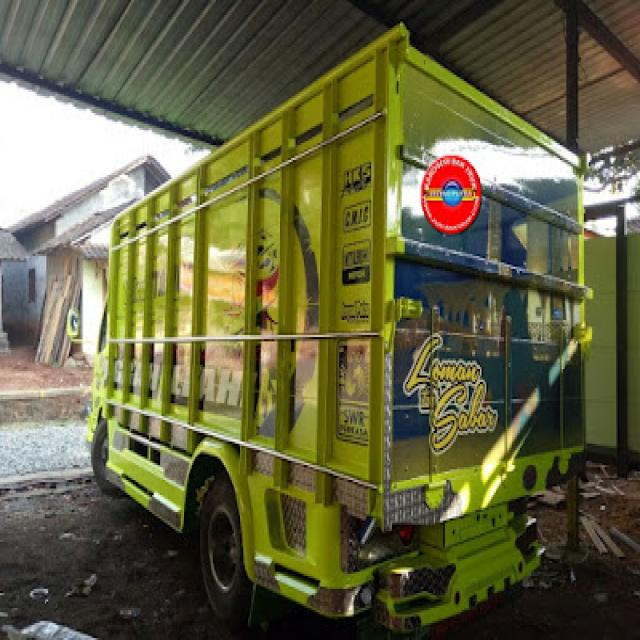truck: (64, 19, 590, 625)
